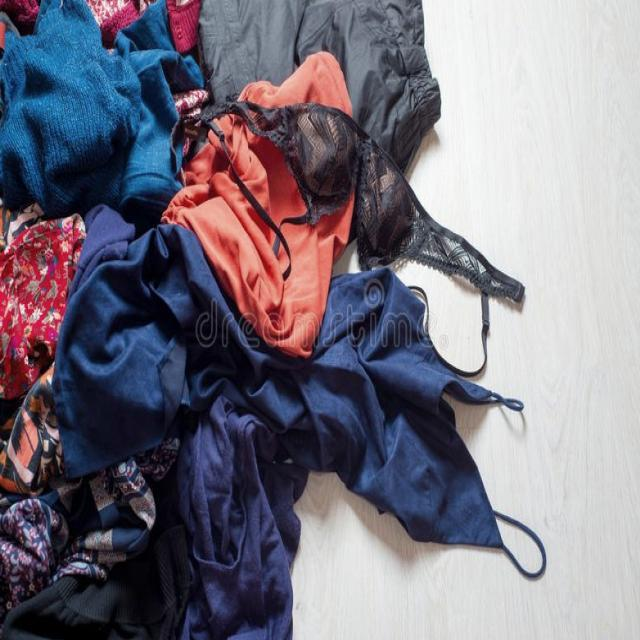clothes: (0, 19, 305, 640)
